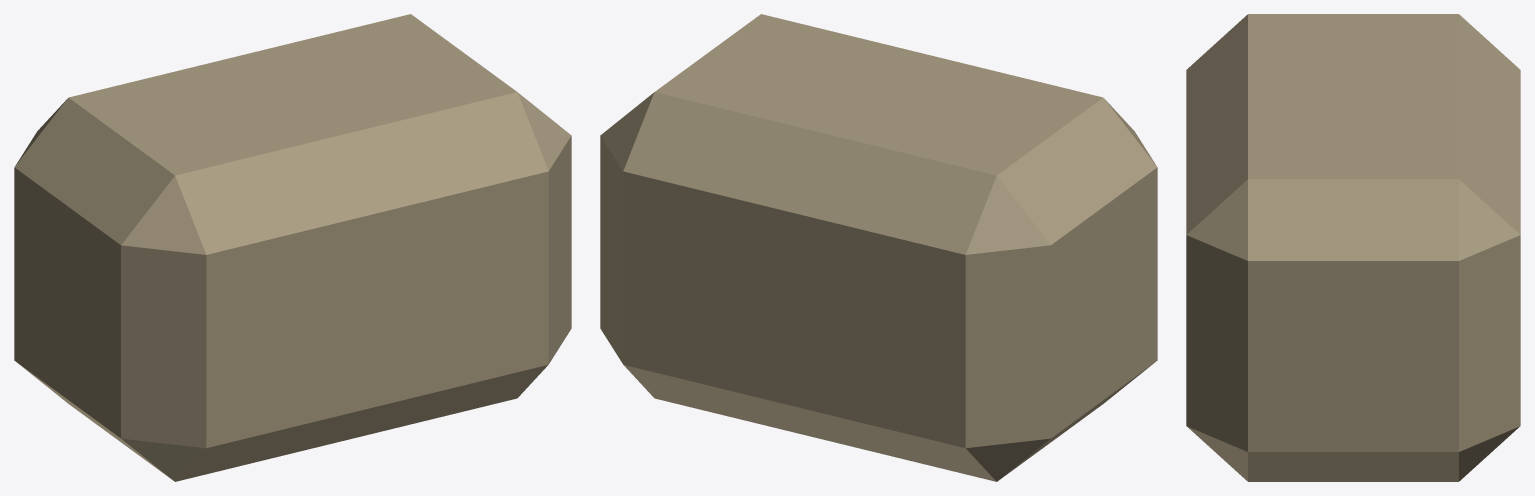
Rendered from shoulder.glb.
The picture shows the model from 3 angles, left to right: view 1: azimuth 30°, elevation 25°; view 2: azimuth 150°, elevation 25°; view 3: azimuth 270°, elevation 25°; orthographic projection.
Parts seen in each view (by area): view 1: shoulder; view 2: shoulder; view 3: shoulder.
Part boxes in pixels (<box>): shoulder: <box>14,14,571,481</box>; shoulder: <box>600,14,1157,481</box>; shoulder: <box>1186,14,1520,481</box>.
Size of the model in its own units: 1 by 0.65 by 0.65.
